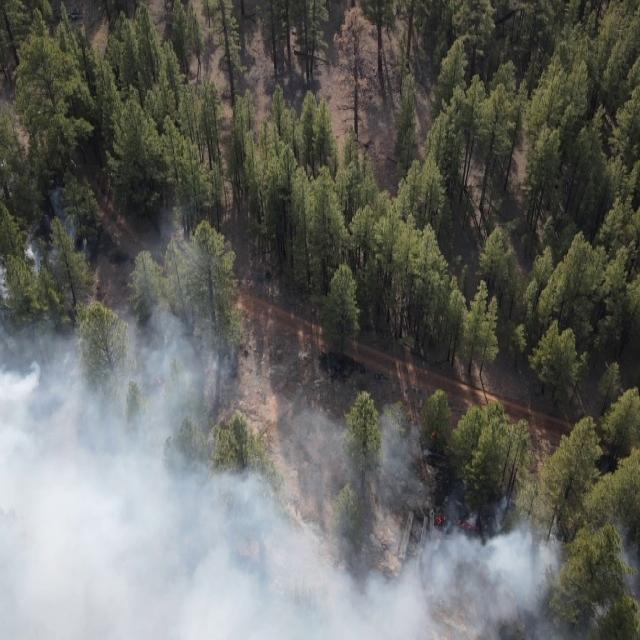fire: (458, 518, 482, 534), (434, 514, 448, 528), (430, 430, 439, 440)
smoke: (0, 315, 242, 640), (243, 411, 421, 638), (423, 531, 640, 640), (121, 207, 238, 315), (0, 190, 91, 306), (446, 480, 536, 529)
